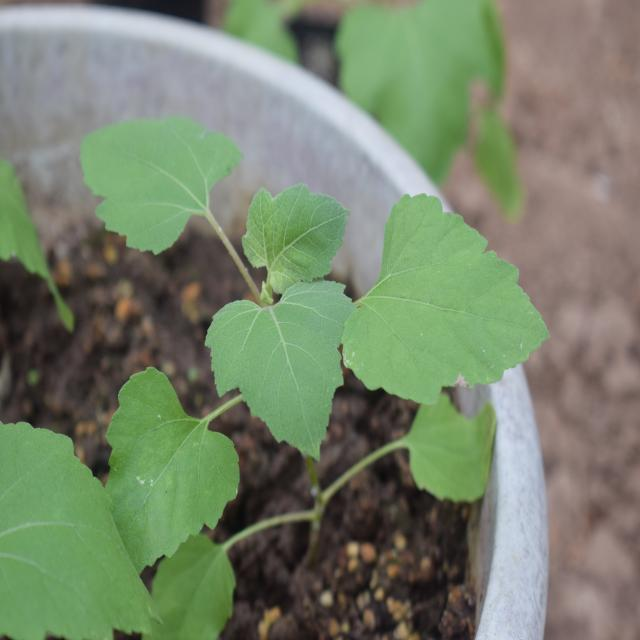cocklebur: (28, 106, 525, 506)
